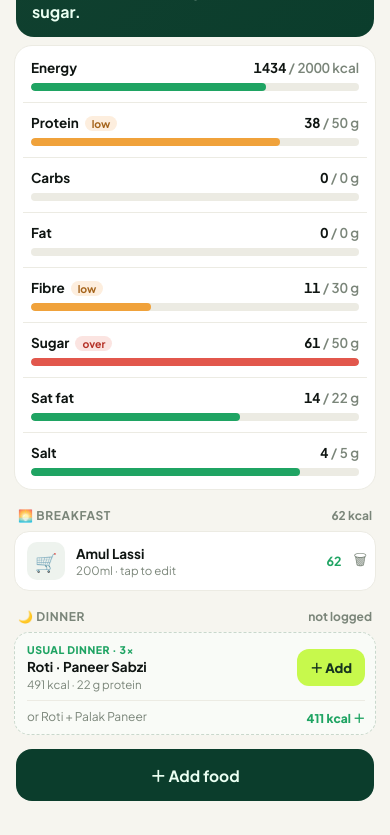
Test: TodayScreen › re-logs packaged foods by barcode and lists frequent foods
The width and height of the screenshot is (390, 835).
(page scrolled)
Click the button "＋ Add food" at (195, 775), box x1=16 y1=749 x2=374 y2=801
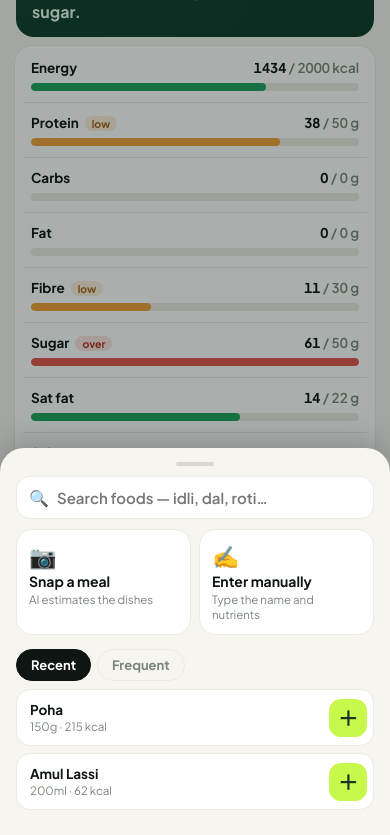
Click the button named "Add Amul Lassi again" at (348, 782), box x1=329 y1=762 x2=367 y2=800
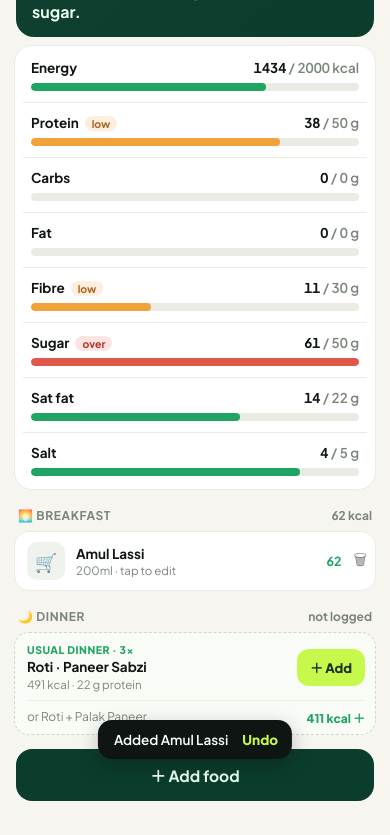
Click the button "＋ Add food" at (195, 775), box x1=16 y1=749 x2=374 y2=801
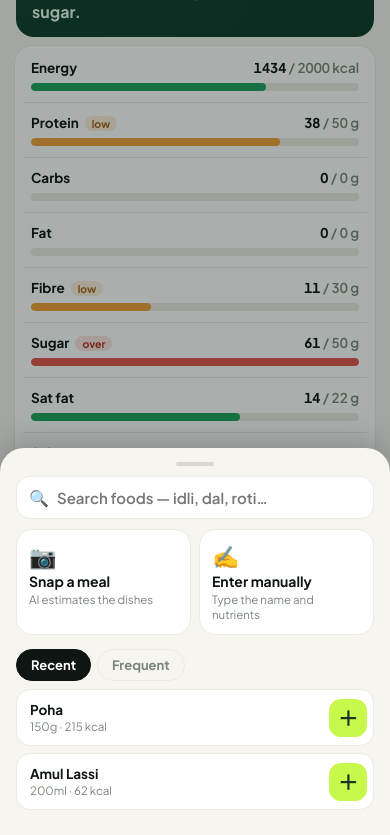
Click the tab "Frequent" at (141, 665), box x1=97 y1=649 x2=185 y2=681
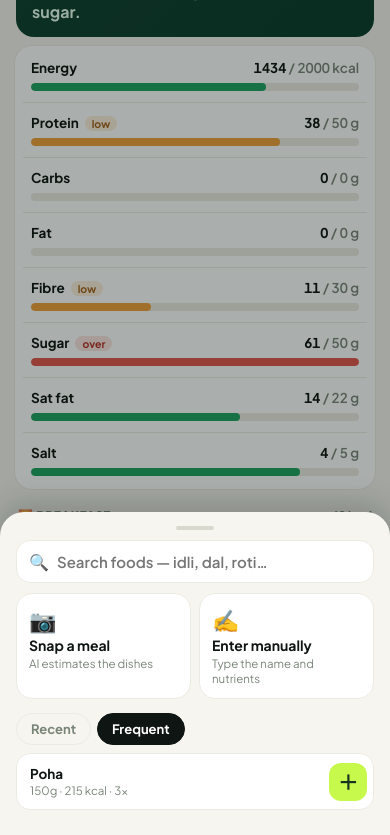
Result: the text "150g · 215 kcal · 3×" is shown at x1=30 y1=783 x2=128 y2=798
